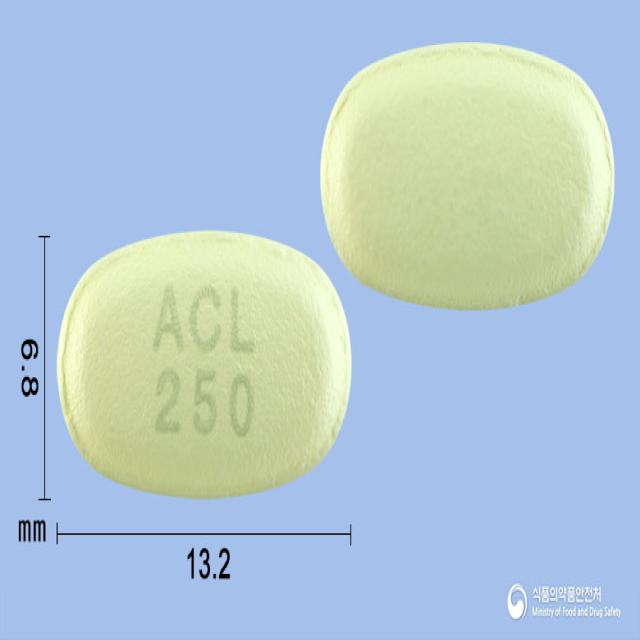Clamon Tab: (56, 231, 354, 500)
